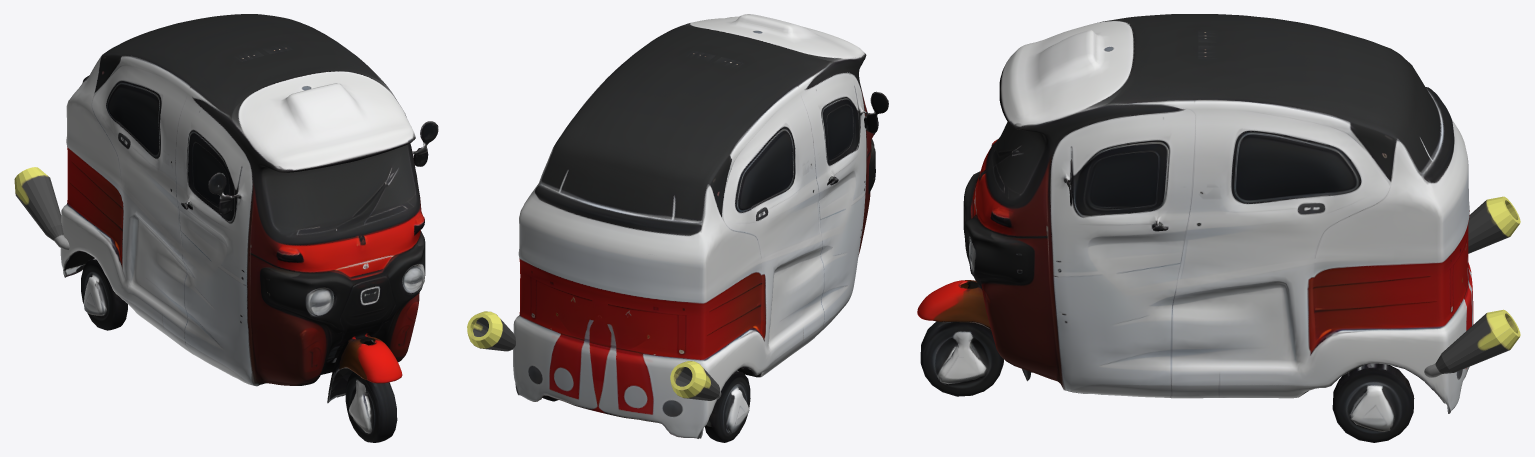
File: Mototaxi.fbx
3 views of the same model, side by side, from view 1: azimuth 30°, elevation 25°; view 2: azimuth 150°, elevation 25°; view 3: azimuth 270°, elevation 25° (orthographic). The views are drawn at different scales.
Visible parts, largest first — view 1: 3, Object001, Tube001, Object003; view 2: 3, Object003, Tube001, Tube003; view 3: 3, Object002, Object001, Tube003, Tube001.
Part boxes in pixels (bbox=[...]): 3: bbox=[60, 14, 438, 403]; Object001: bbox=[345, 372, 397, 442]; Tube001: bbox=[14, 167, 69, 250]; Object003: bbox=[81, 258, 127, 330]; 3: bbox=[513, 14, 888, 438]; Object003: bbox=[705, 370, 750, 442]; Tube001: bbox=[670, 361, 721, 400]; Tube003: bbox=[467, 311, 515, 351]; 3: bbox=[917, 14, 1473, 413]; Object002: bbox=[1332, 363, 1414, 442]; Object001: bbox=[920, 321, 1003, 396]; Tube003: bbox=[1424, 309, 1520, 377]; Tube001: bbox=[1468, 196, 1520, 253].
Bounding box in the file's own units: 176 × 220 × 342.
